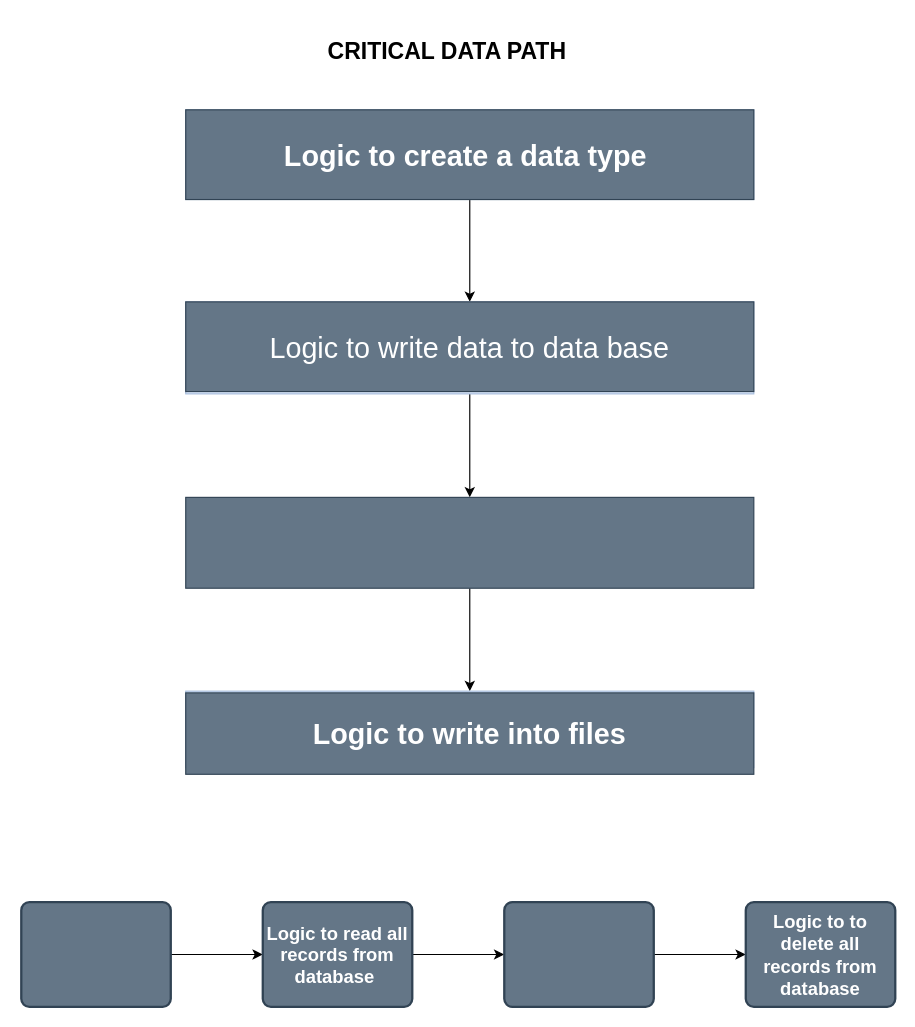
This 915x1027 diagram has some shape labels left out. The shapes that lost their labels are listed below. From the top down, each one's centre as x and y in pixels, then its label:
At point (469, 542): "Logic to create files".
At point (95, 953): "Logic to read a single record from database".
At point (578, 953): "Logic to to delete a single record from database".
